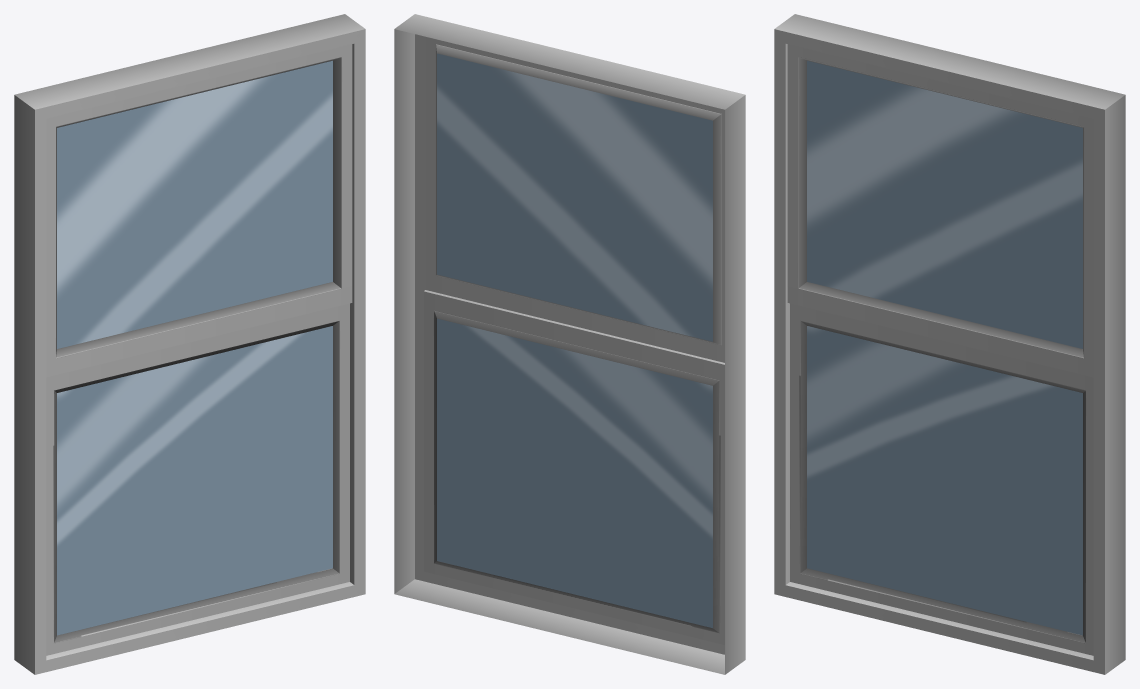
Rendered from windows.fbx.
The picture shows the model from 3 angles, left to right: view 1: azimuth 30°, elevation 25°; view 2: azimuth 150°, elevation 25°; view 3: azimuth 330°, elevation 25°; orthographic projection.
Parts seen in each view (by area): view 1: Window; view 2: Window; view 3: Window.
Part boxes in pixels (x1,y1,x2,y2): Window: [14, 14, 365, 674]; Window: [394, 14, 745, 674]; Window: [774, 14, 1125, 674].
Bounding box in the file's own units: 2 × 3.27 × 0.2157.
1 material, 1 textured.
